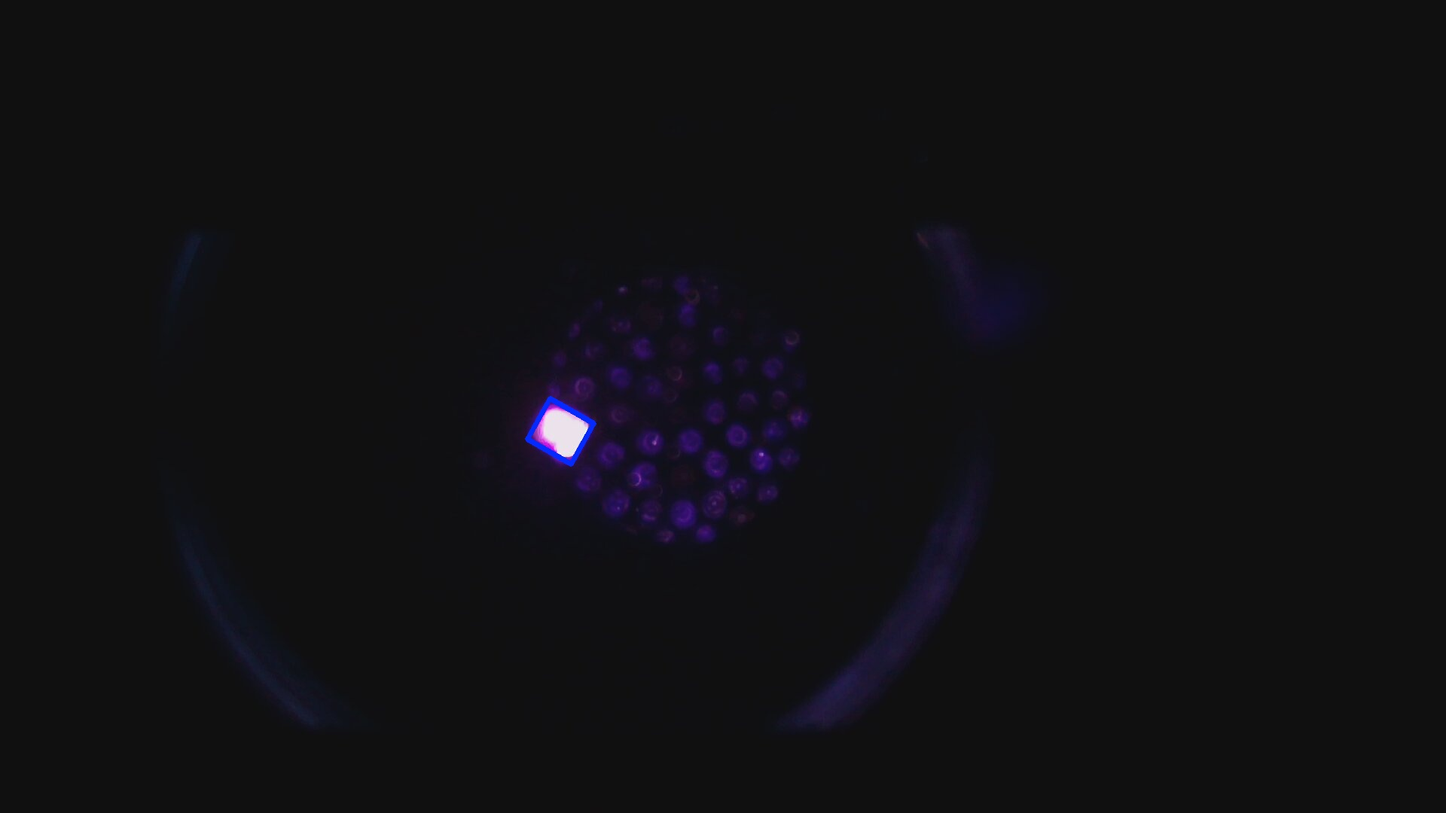plastic: (529, 402, 591, 462)
